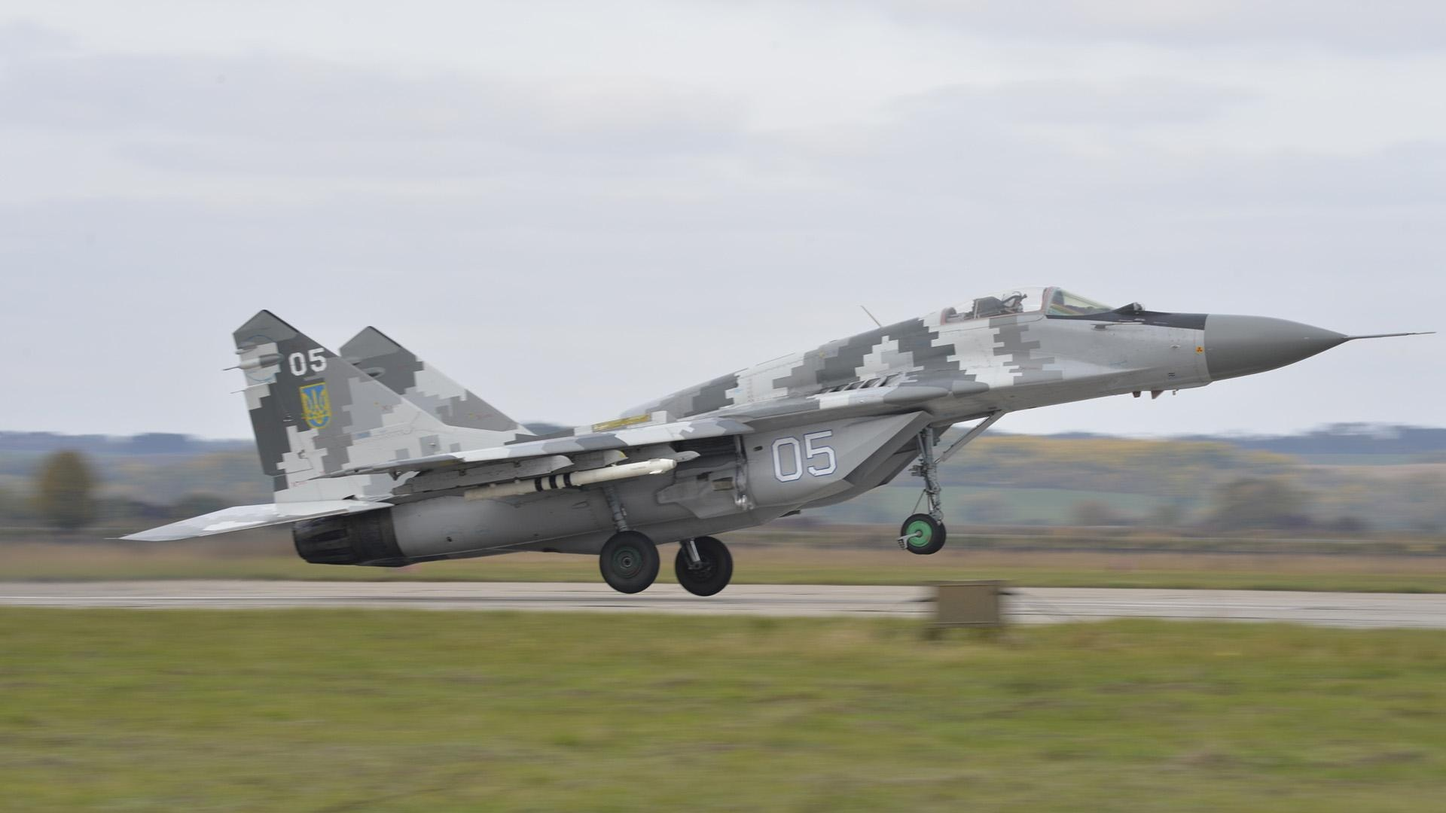aircraft: (153, 289, 1382, 597)
